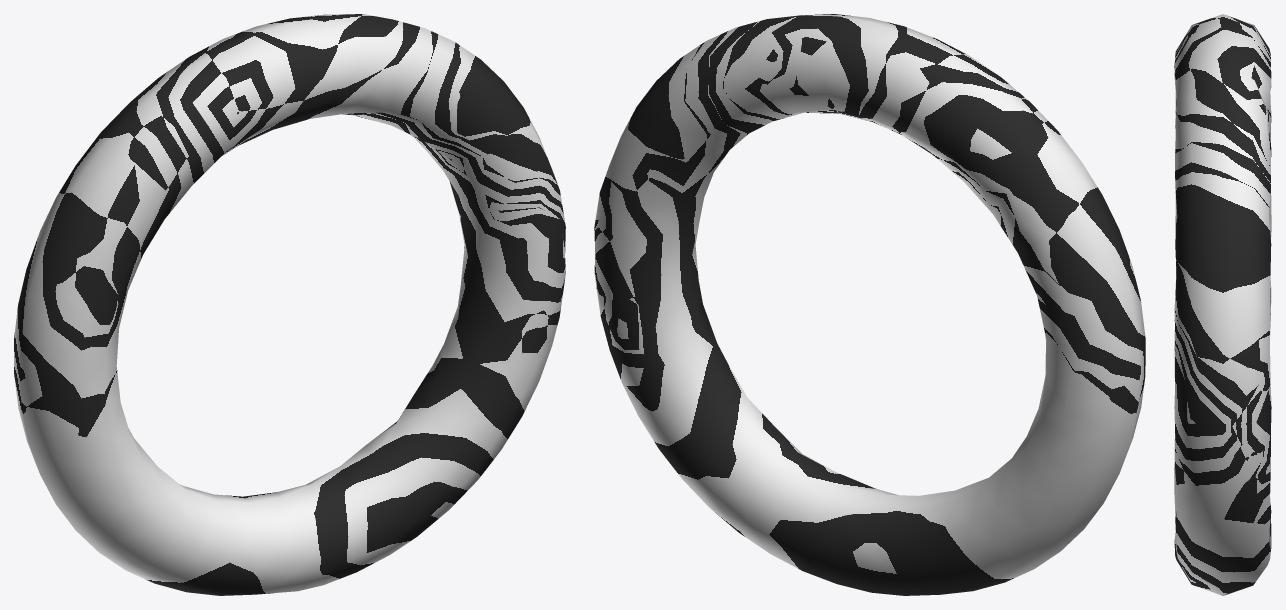
The model's file is torus_R200mm_r40mm_cgal_authalic_result.glb.
The picture shows the model from 3 angles, left to right: view 1: azimuth 30°, elevation 25°; view 2: azimuth 150°, elevation 25°; view 3: azimuth 270°, elevation 25°; orthographic projection. The views are drawn at different scales.
Size of the model in its own units: 480 by 480 by 80.
Materials: 1 (1 with a texture image).
